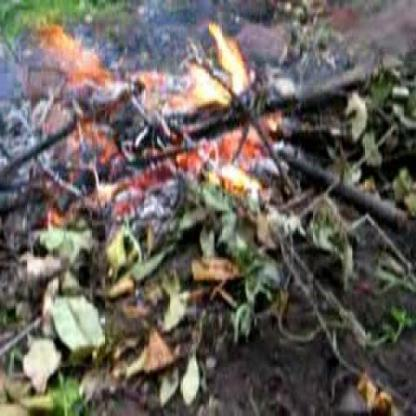fire: (15, 13, 308, 268)
